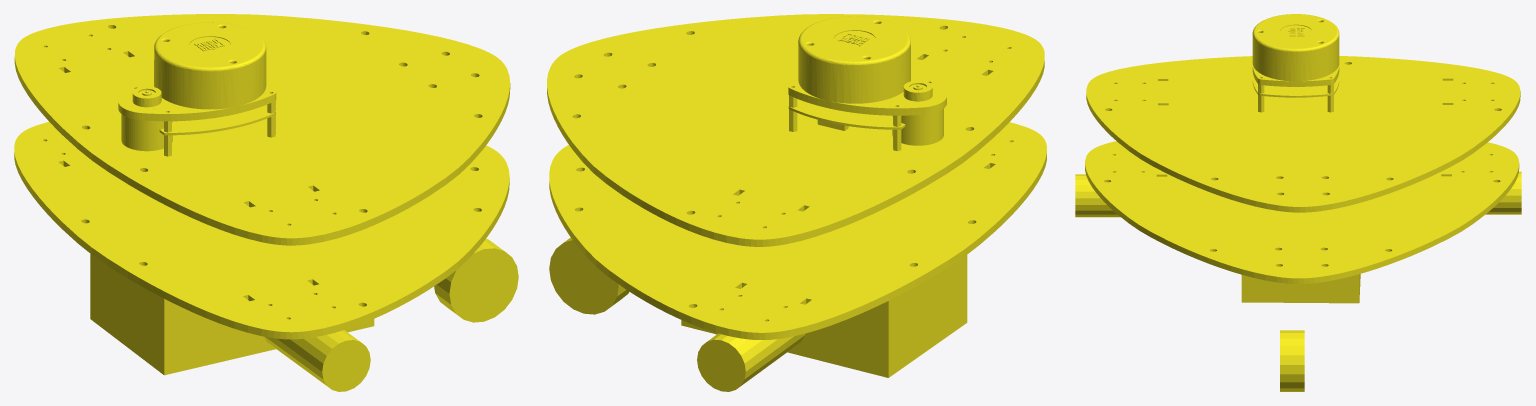
3 views of the same model, side by side, from view 1: azimuth 30°, elevation 25°; view 2: azimuth 150°, elevation 25°; view 3: azimuth 270°, elevation 25° (orthographic). The views are drawn at different scales.
Visible parts, largest first — view 1: Base; view 2: Base; view 3: Base.
Part boxes in pixels (<box>): Base: <box>14,14,518,391</box>; Base: <box>547,14,1046,391</box>; Base: <box>1075,14,1521,391</box>.
Bounding box in the file's own units: 297 × 360 × 230.
Materials: 1 (1 with a texture image).
